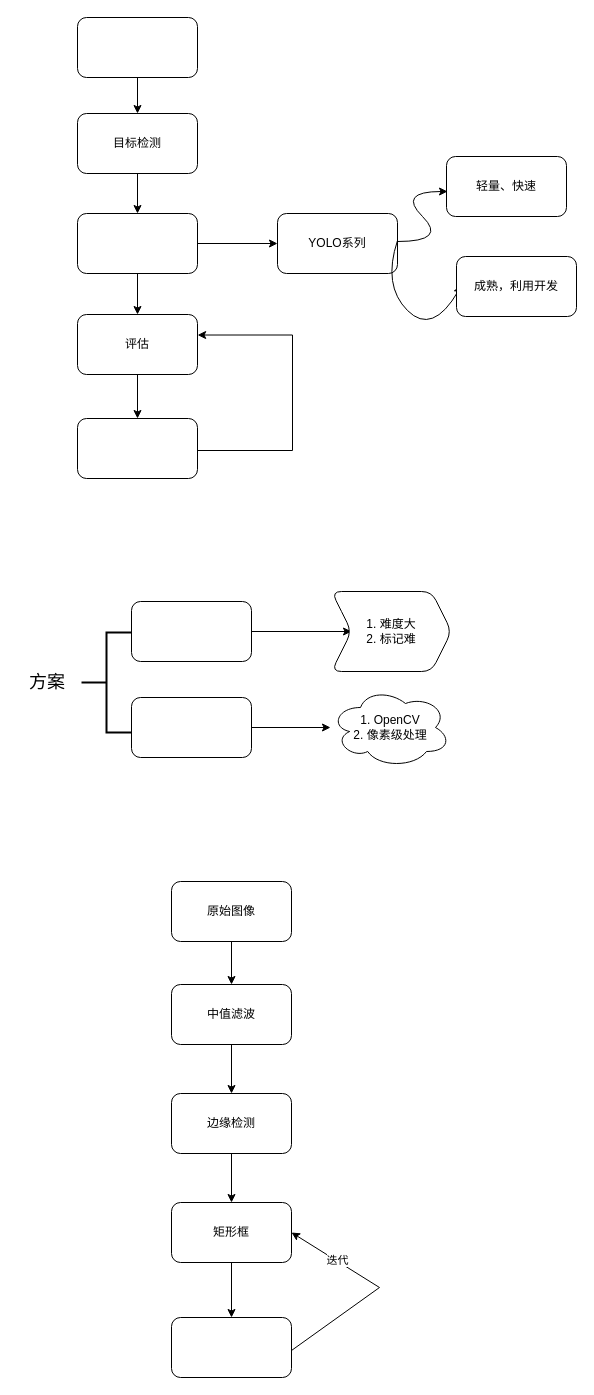
The diagram is 594 pixels wide and 1395 high, and some of its shapes have lost their labels. Here are the shapes that lost their labels. From the top down, the box of each, then its label:
(76, 16, 198, 78): 确定目标方案
(76, 212, 198, 274): 确定baseline模型
(76, 418, 198, 478): 优化
(130, 600, 252, 662): 继续目标检测
(130, 696, 252, 758): 传统算法
(170, 1316, 292, 1378): 1. 框阈值 2.像素颜色阈值 3.横纵比
